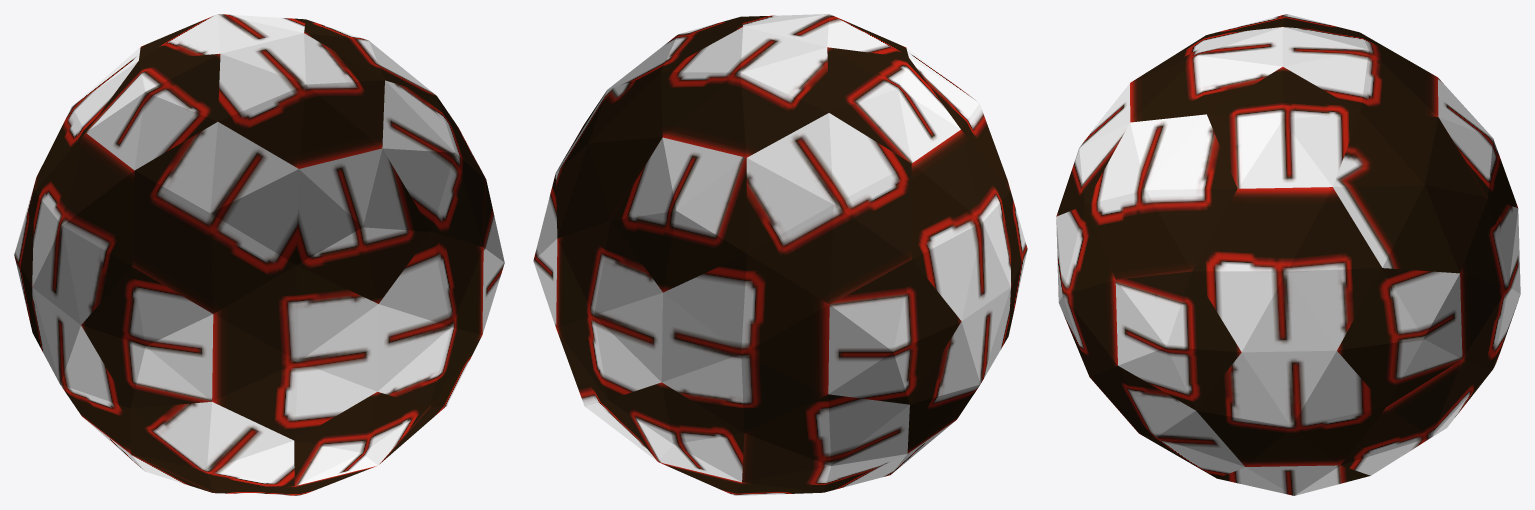
The model's file is list.ico.obj.
3 views of the same model, side by side, from view 1: azimuth 30°, elevation 25°; view 2: azimuth 150°, elevation 25°; view 3: azimuth 270°, elevation 25° (orthographic). The views are drawn at different scales.
Size of the model in its own units: 2.39 by 2.41 by 2.43.
